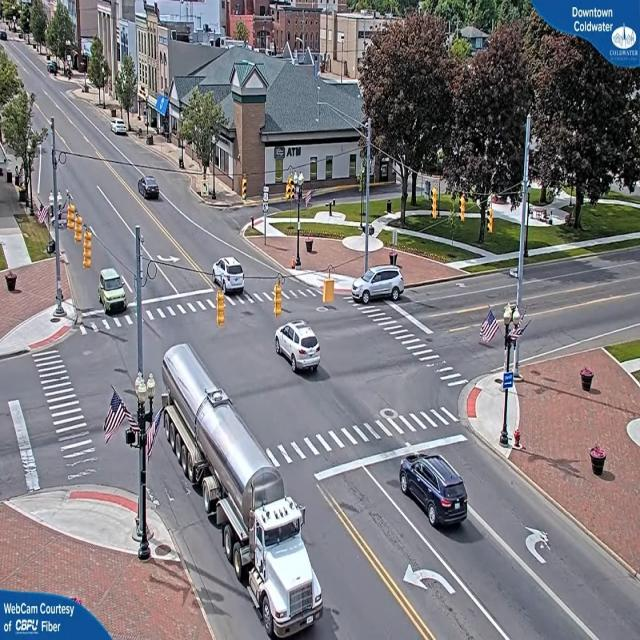car: (398, 454, 469, 531), (276, 320, 322, 372), (358, 269, 404, 306), (213, 257, 246, 294), (99, 272, 129, 312), (140, 178, 162, 202), (112, 121, 130, 138)
truck: (241, 527, 325, 640)
